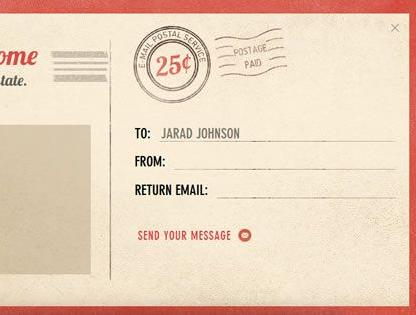field_line: (156, 123, 395, 143), (170, 153, 397, 172), (213, 182, 396, 200)
field_line_with_label: (131, 121, 398, 144), (135, 150, 401, 173), (136, 179, 397, 202)
